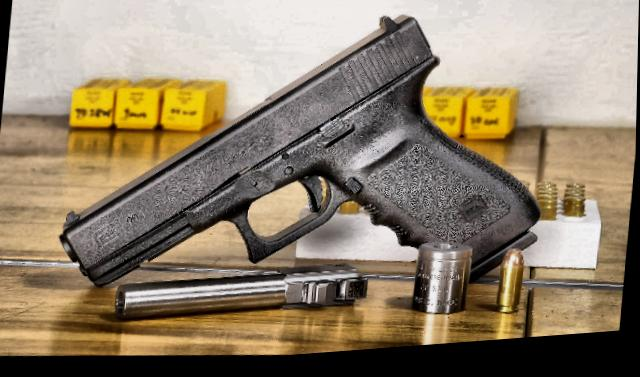pistol: (38, 0, 561, 316)
